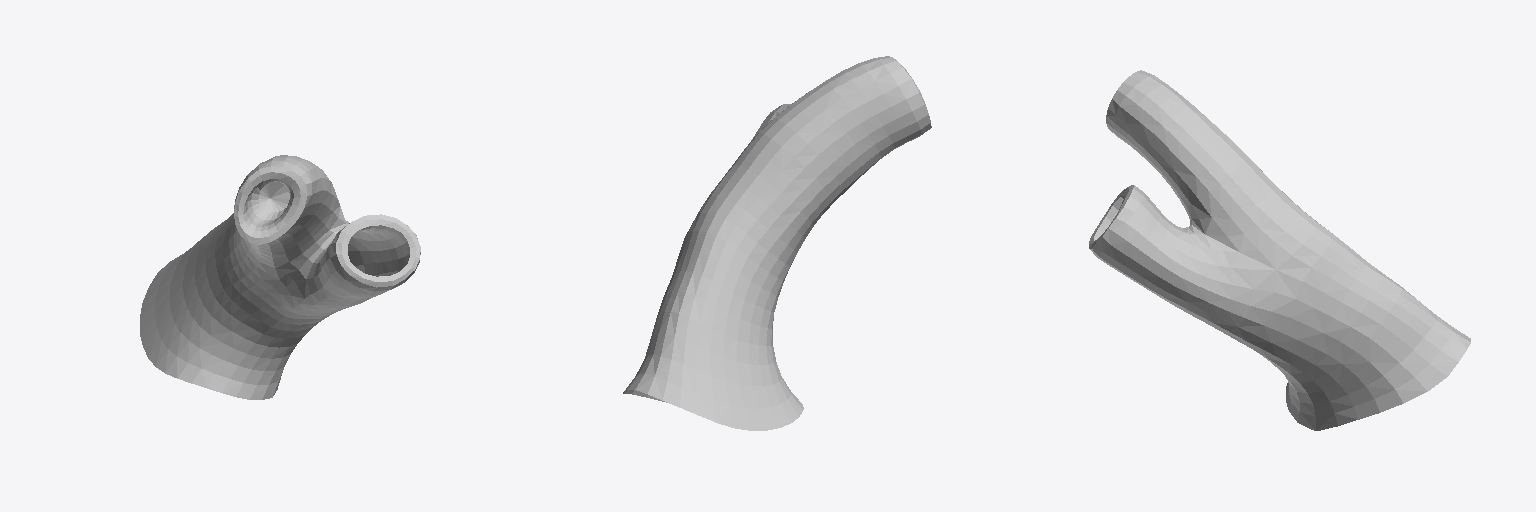
Rendered from azul.obj.
3 views of the same model, side by side, from view 1: azimuth 30°, elevation 25°; view 2: azimuth 150°, elevation 25°; view 3: azimuth 270°, elevation 25° (orthographic).
Visible parts, largest first — view 1: azul009, azul.015, azul.022; view 2: azul009; view 3: azul009, azul.015.
Boxes of the visible parts, <box> form: azul009: <box>140,155,390,399</box>; azul.015: <box>306,214,420,305</box>; azul.022: <box>243,179,293,230</box>; azul009: <box>623,56,931,430</box>; azul009: <box>1106,70,1470,430</box>; azul.015: <box>1089,185,1201,306</box>.
Bounding box in the file's own units: 0.0465 × 0.0758 × 0.0839.